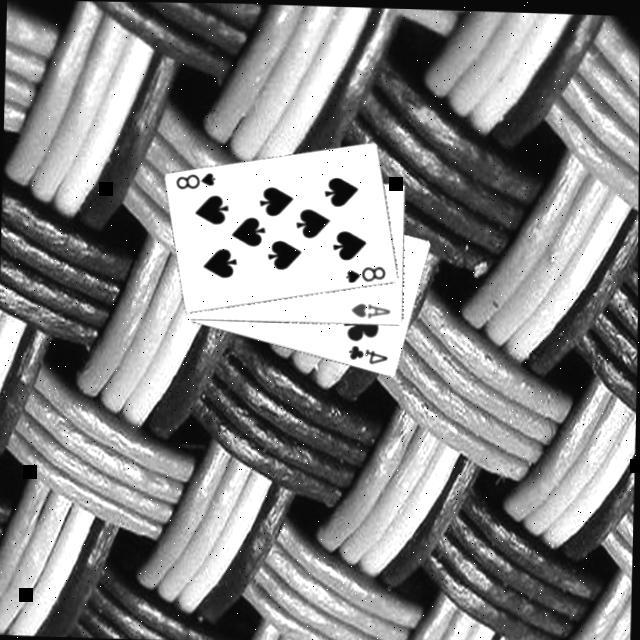4C: (343, 342, 389, 368)
8S: (340, 262, 388, 288), (170, 168, 217, 194)
AH: (346, 298, 391, 322)
